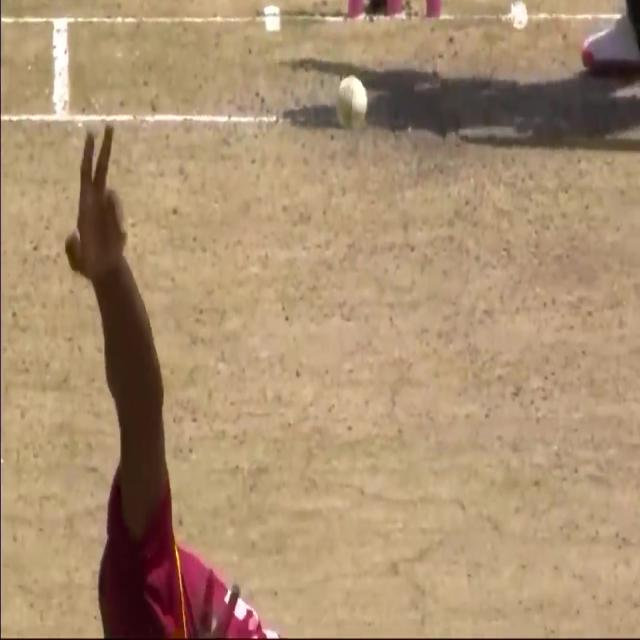Batsman: (329, 64, 372, 139)
